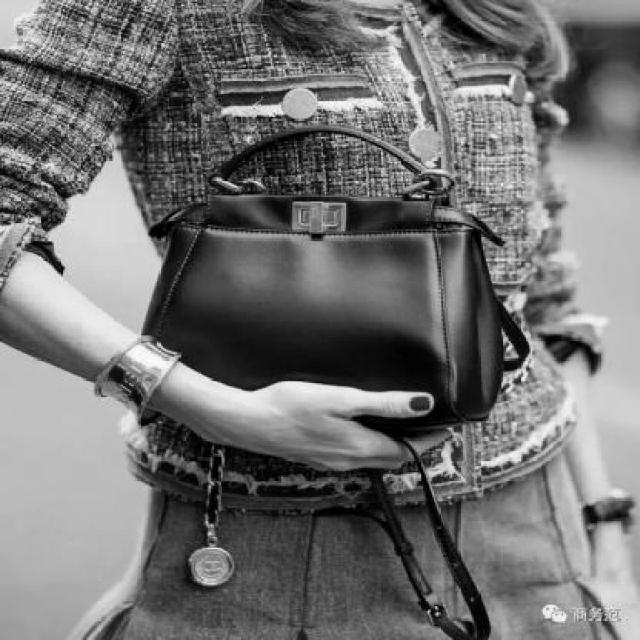hand_noglove: (196, 378, 459, 476), (587, 522, 639, 610)
